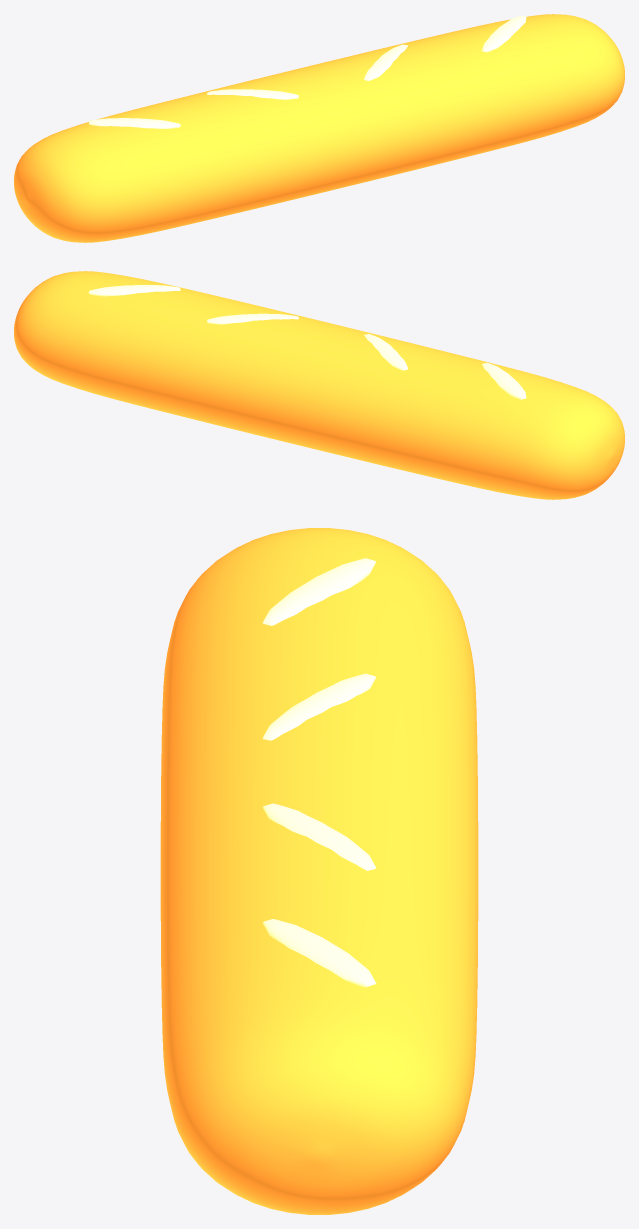
The picture shows the model from 3 angles, top to bottom: view 1: azimuth 30°, elevation 25°; view 2: azimuth 150°, elevation 25°; view 3: azimuth 270°, elevation 25°; orthographic projection. The views are drawn at different scales.
Visible parts, largest first — view 1: Bread-whole; view 2: Bread-whole; view 3: Bread-whole.
Part boxes in pixels (left/top/right/bottom): Bread-whole: left=14, top=14, right=624, bottom=242; Bread-whole: left=14, top=271, right=624, bottom=499; Bread-whole: left=160, top=528, right=478, bottom=1214.
Bounding box in the file's own units: 1.8 × 0.3091 × 0.4227.
